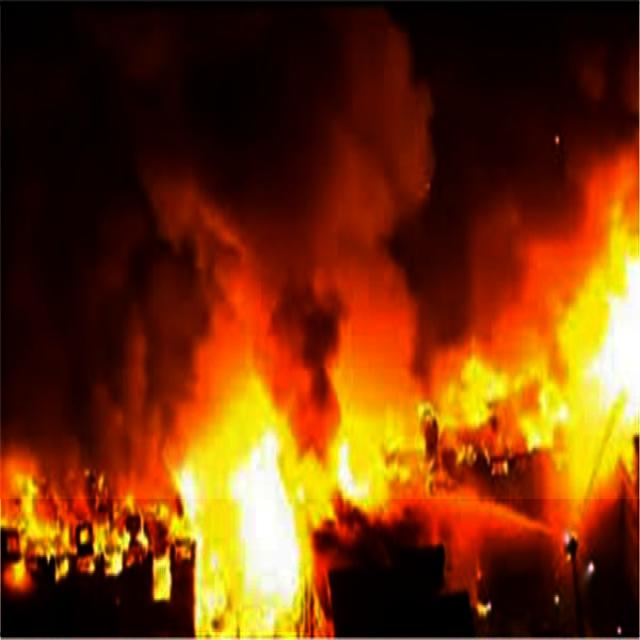Fire: (1, 206, 640, 640)
Smoke: (0, 0, 640, 499)
